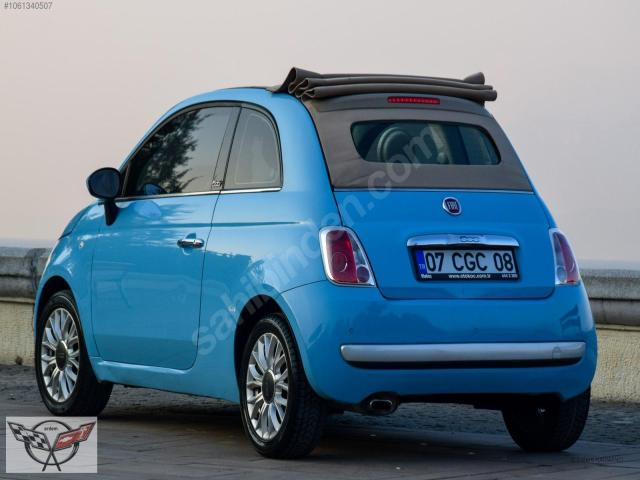plaka: (414, 248, 518, 280)
